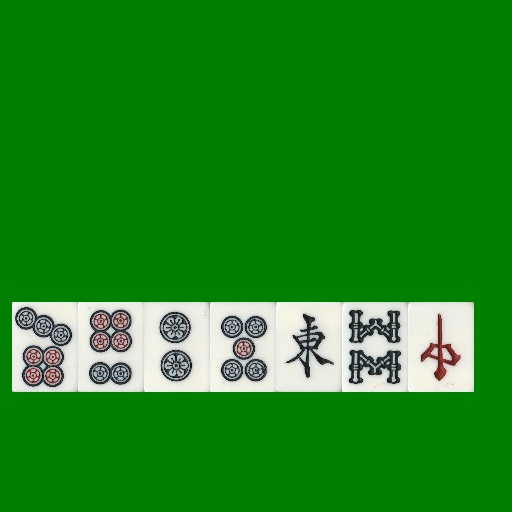2p: (144, 302, 210, 392)
5p: (210, 302, 276, 392)
6p: (78, 302, 144, 392)
7p: (12, 302, 78, 392)
8s: (342, 302, 408, 392)
east: (276, 302, 342, 392)
tyun: (408, 302, 474, 392)
